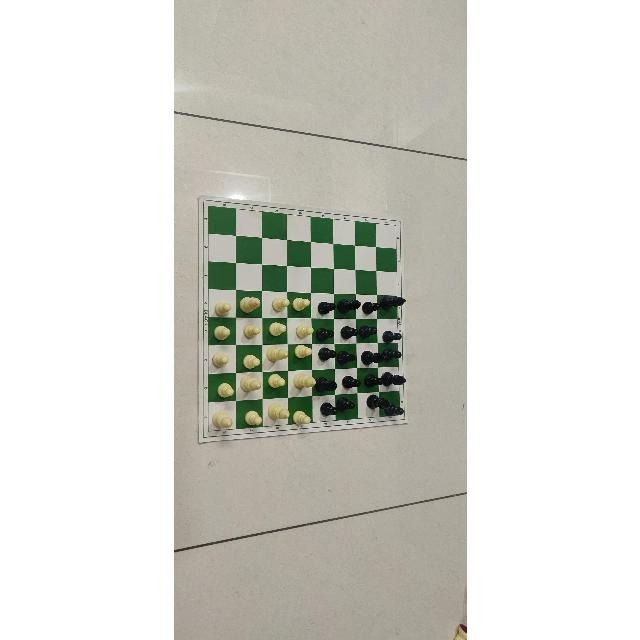black-bishop: (366, 393, 390, 410), (381, 295, 405, 309), (361, 350, 383, 364), (382, 372, 405, 385), (337, 299, 360, 312), (316, 377, 336, 391)
black-pawn: (381, 329, 404, 344), (361, 301, 380, 317), (316, 301, 335, 316), (337, 349, 355, 364), (316, 327, 333, 342), (318, 347, 336, 361), (337, 398, 355, 412), (341, 375, 360, 388), (364, 373, 382, 386), (339, 327, 357, 339), (319, 403, 337, 415), (359, 326, 376, 338), (384, 348, 401, 360), (391, 404, 404, 416)
white-bishop: (267, 402, 290, 420), (292, 373, 315, 391), (210, 410, 232, 428), (240, 373, 260, 392), (238, 296, 260, 313), (266, 345, 288, 362)
white-pawn: (292, 408, 312, 426), (215, 381, 235, 399), (209, 352, 227, 372), (239, 351, 259, 369), (215, 300, 233, 320), (266, 373, 287, 390), (269, 294, 289, 310), (211, 324, 231, 340), (239, 324, 261, 338), (242, 410, 262, 425), (268, 321, 286, 336), (294, 294, 310, 310), (296, 324, 313, 339), (295, 345, 312, 359)
